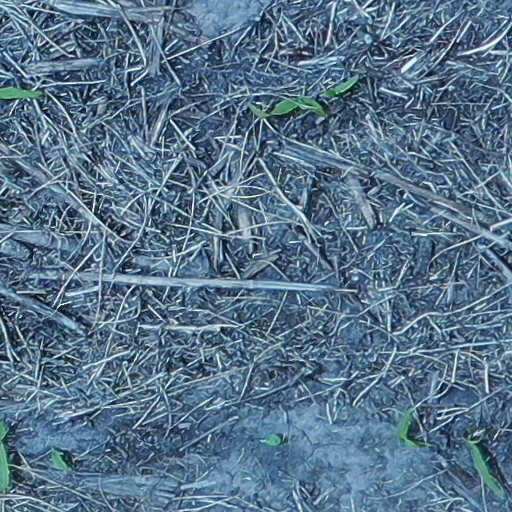planta: (469, 440, 500, 493), (249, 96, 326, 117), (397, 411, 428, 447), (321, 75, 358, 95)
